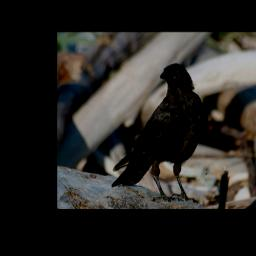Crow: (110, 62, 210, 203)
